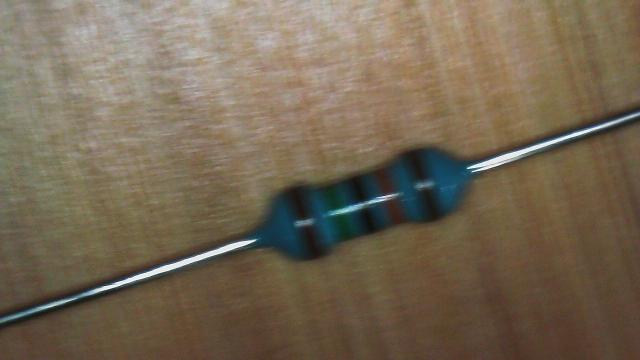black: (349, 176, 376, 233)
brown: (406, 150, 442, 220), (288, 187, 322, 257)
green: (323, 183, 350, 240)
orange: (375, 168, 405, 224)
resistor: (240, 114, 493, 279)
